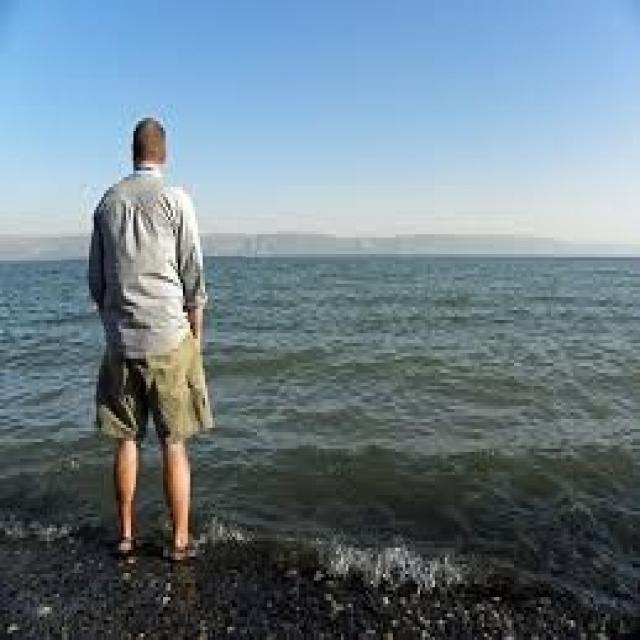NotFall: (0, 109, 283, 640)
